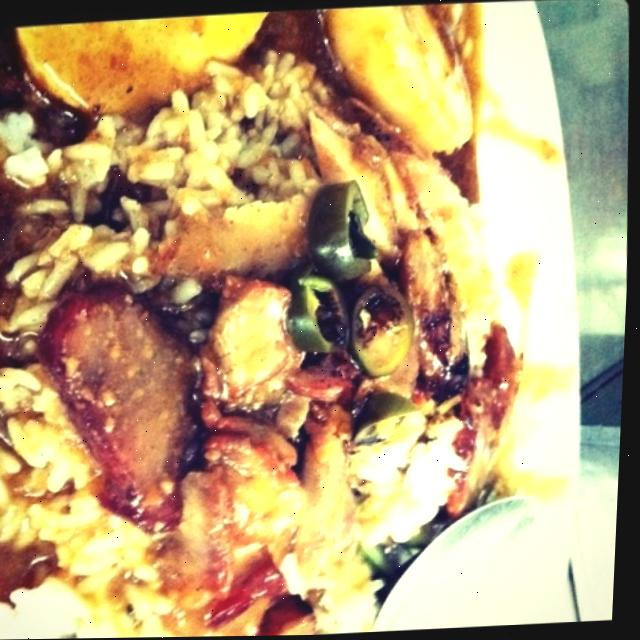猪肉菜式: (0, 8, 591, 639)
